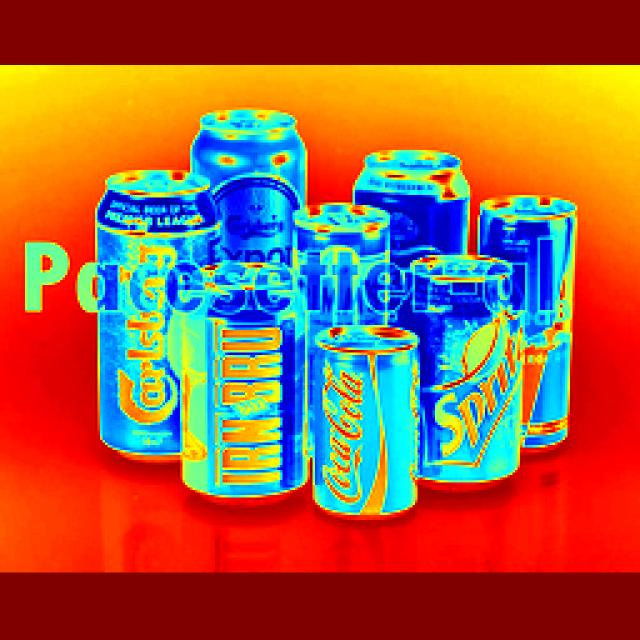Aluminium Food Cans: (70, 75, 606, 537)
